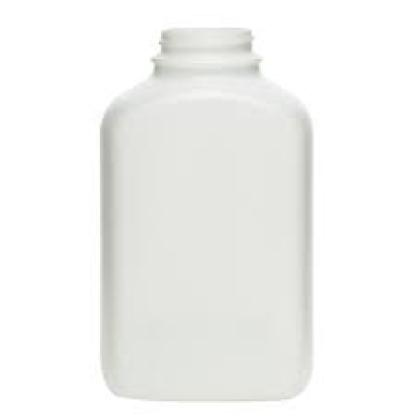trash: (101, 28, 311, 399)
